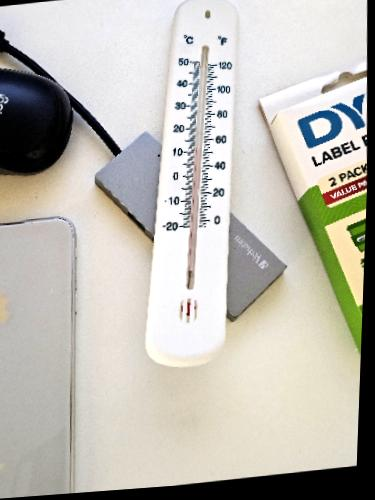thermo: (145, 0, 238, 353)
